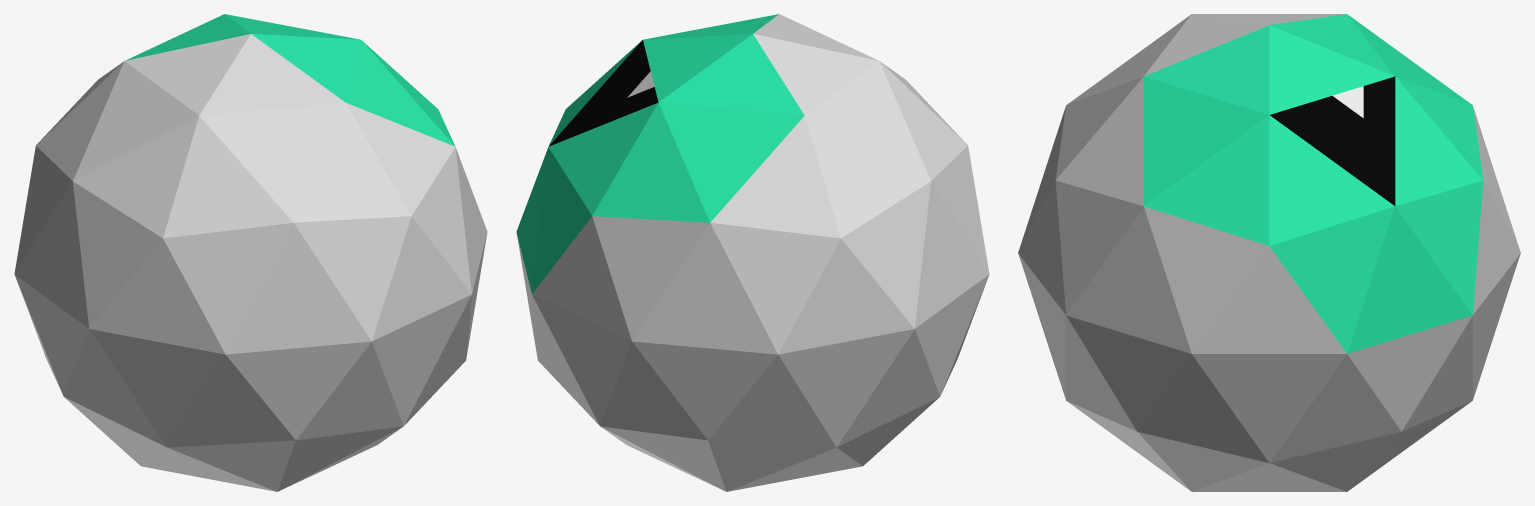
The model's file is Ingredient_Eyeball.fbx.
3 renders of one model, left to right at view 1: azimuth 30°, elevation 25°; view 2: azimuth 150°, elevation 25°; view 3: azimuth 270°, elevation 25°, orthographic. The views are drawn at different scales.
Visible parts, largest first — view 1: Icosphere; view 2: Icosphere; view 3: Icosphere.
Part boxes in pixels (x1,y1,x2,y2): Icosphere: (14,14,487,491); Icosphere: (516,14,989,491); Icosphere: (1018,14,1520,491).
Size of the model in its own units: 87.68 by 92.2 by 92.2.
